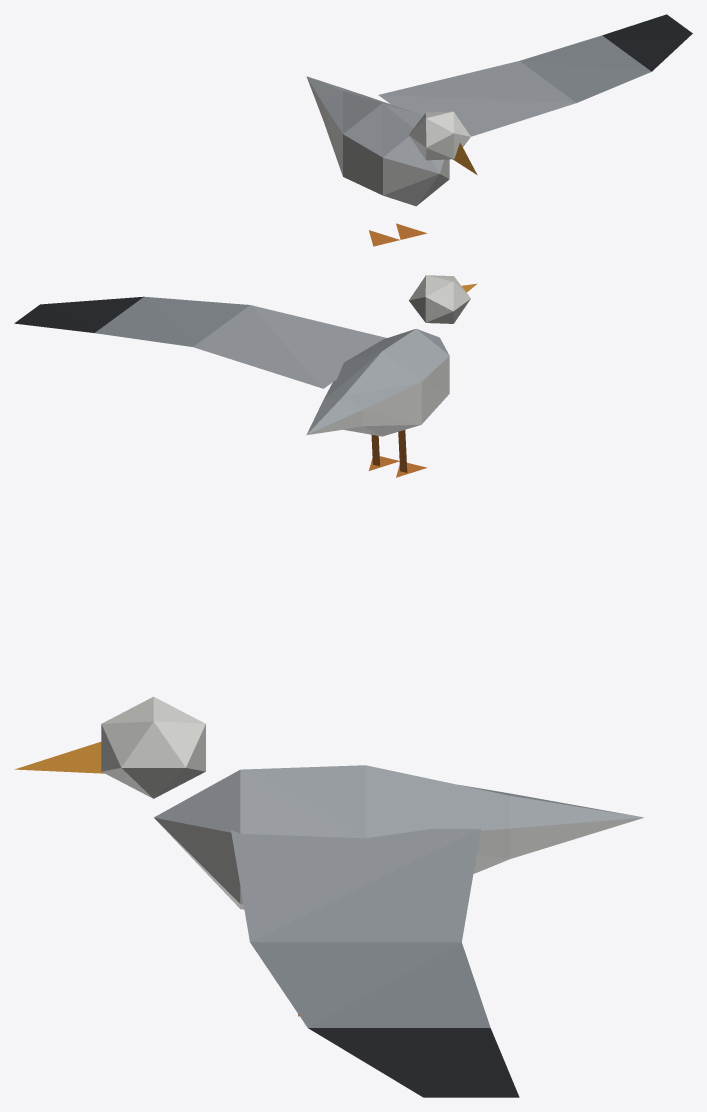
Rendered from gull.glb.
The picture shows the model from 3 angles, top to bottom: view 1: azimuth 30°, elevation 25°; view 2: azimuth 150°, elevation 25°; view 3: azimuth 270°, elevation 25°; orthographic projection. The views are drawn at different scales.
Parts seen in each view (by area): view 1: gull; view 2: gull; view 3: gull.
Boxes of the visible parts, box(x1,y1,x2,y2) form: gull: box(306, 14, 692, 246); gull: box(14, 275, 477, 477); gull: box(14, 696, 643, 1097).
Size of the model in its own units: 1.44 by 0.3244 by 0.705.
